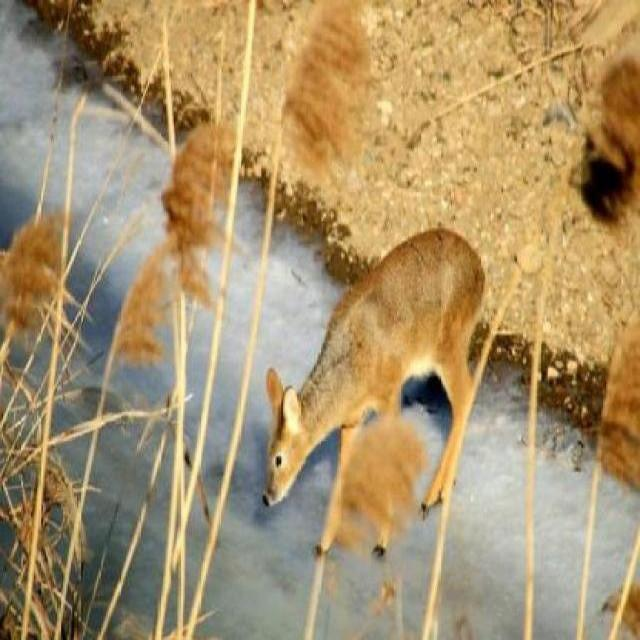deer: (254, 226, 492, 566)
